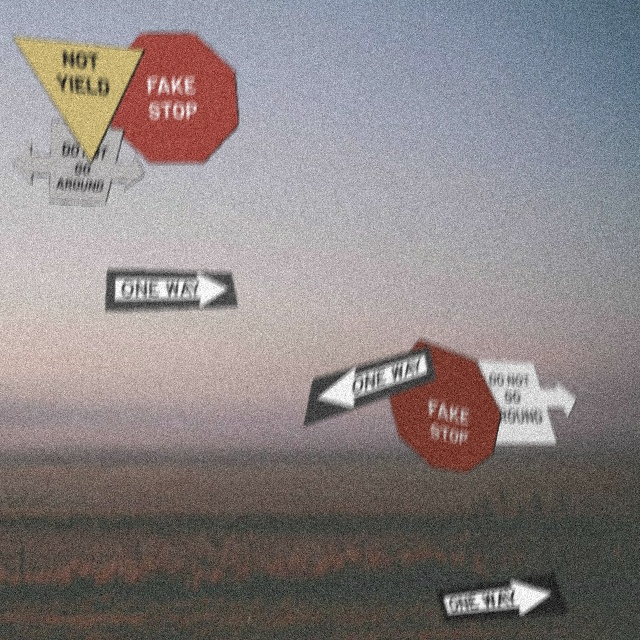DO_NOT_GO_AROUND: (443, 360, 577, 446), (11, 120, 145, 205)
FAKE_STOP: (105, 33, 239, 164), (384, 339, 501, 473)
NOT_YIELD: (11, 36, 145, 164)
ONE_WAY_ left: (302, 346, 436, 428)
ONE_WAY_ right: (435, 573, 569, 623), (104, 269, 238, 312)
